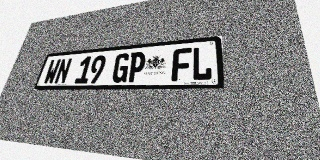1: (74, 56, 94, 84)
9: (87, 55, 107, 83)
F: (171, 47, 192, 81)
G: (111, 53, 131, 83)
L: (191, 46, 212, 81)
N: (53, 58, 73, 84)
P: (126, 51, 146, 82)
W: (42, 59, 61, 84)
